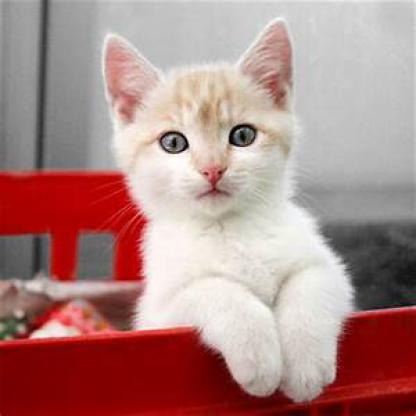cat: (96, 32, 345, 363)
